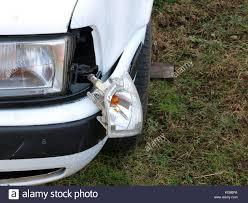Signlight-Damage: (79, 66, 146, 144)
